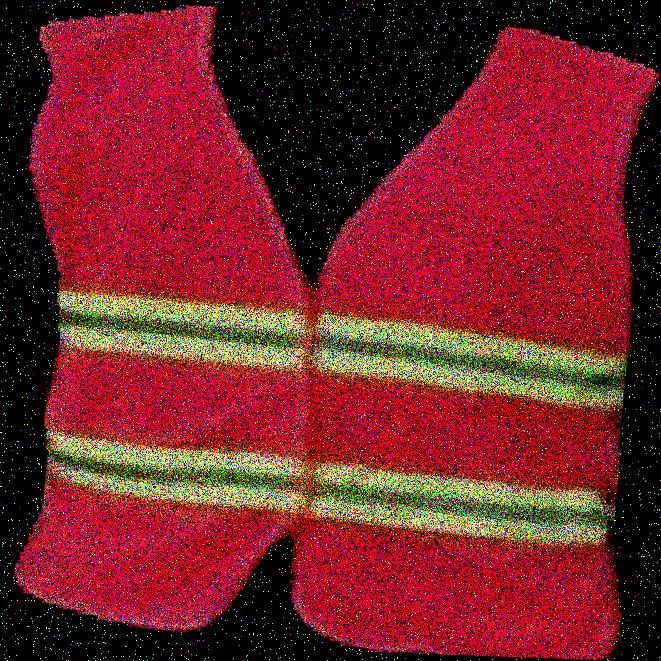Colete: (4, 0, 296, 660)
